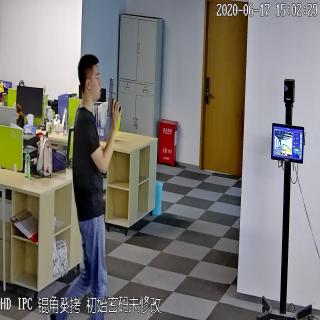gun: (106, 76, 122, 119)
